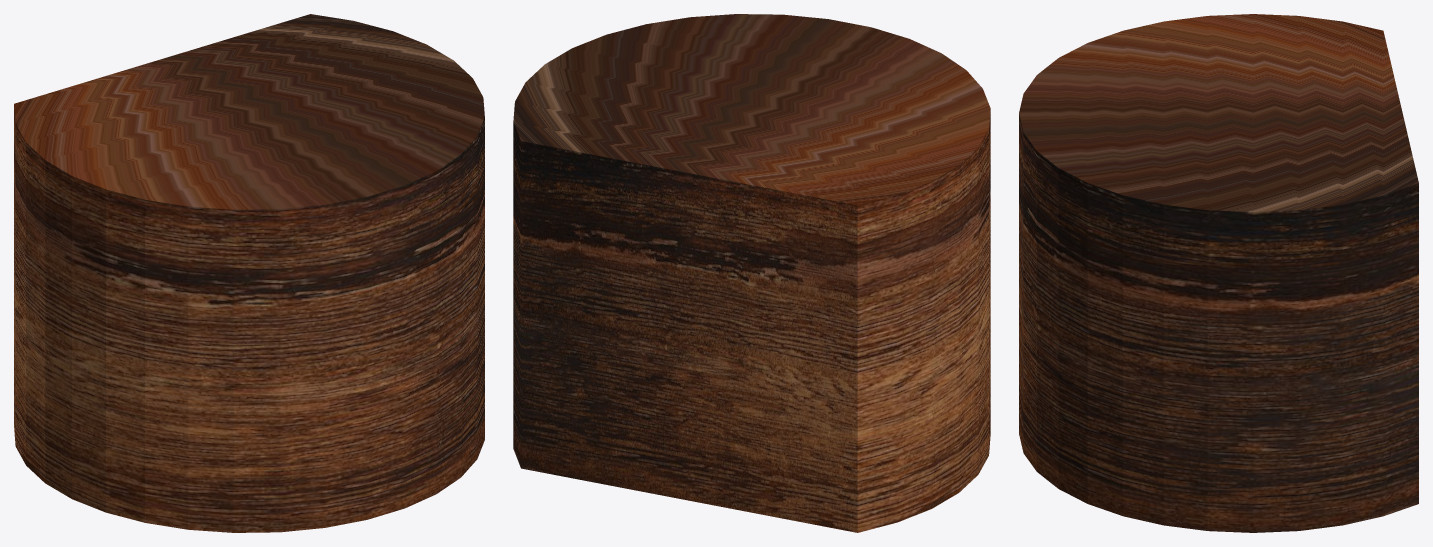
Rendered from blackcapstone.glb.
3 renders of one model, left to right at view 1: azimuth 30°, elevation 25°; view 2: azimuth 150°, elevation 25°; view 3: azimuth 270°, elevation 25°, orthographic. The views are drawn at different scales.
Visible parts, largest first — view 1: Cylinder.001; view 2: Cylinder.001; view 3: Cylinder.001.
Part boxes in pixels (box(x1,y1,x2,y2)): Cylinder.001: box(14, 14, 484, 532); Cylinder.001: box(513, 14, 990, 532); Cylinder.001: box(1019, 14, 1418, 532).
Bounding box in the file's own units: 3.29 × 2.49 × 2.81.
1 material, 1 textured.
